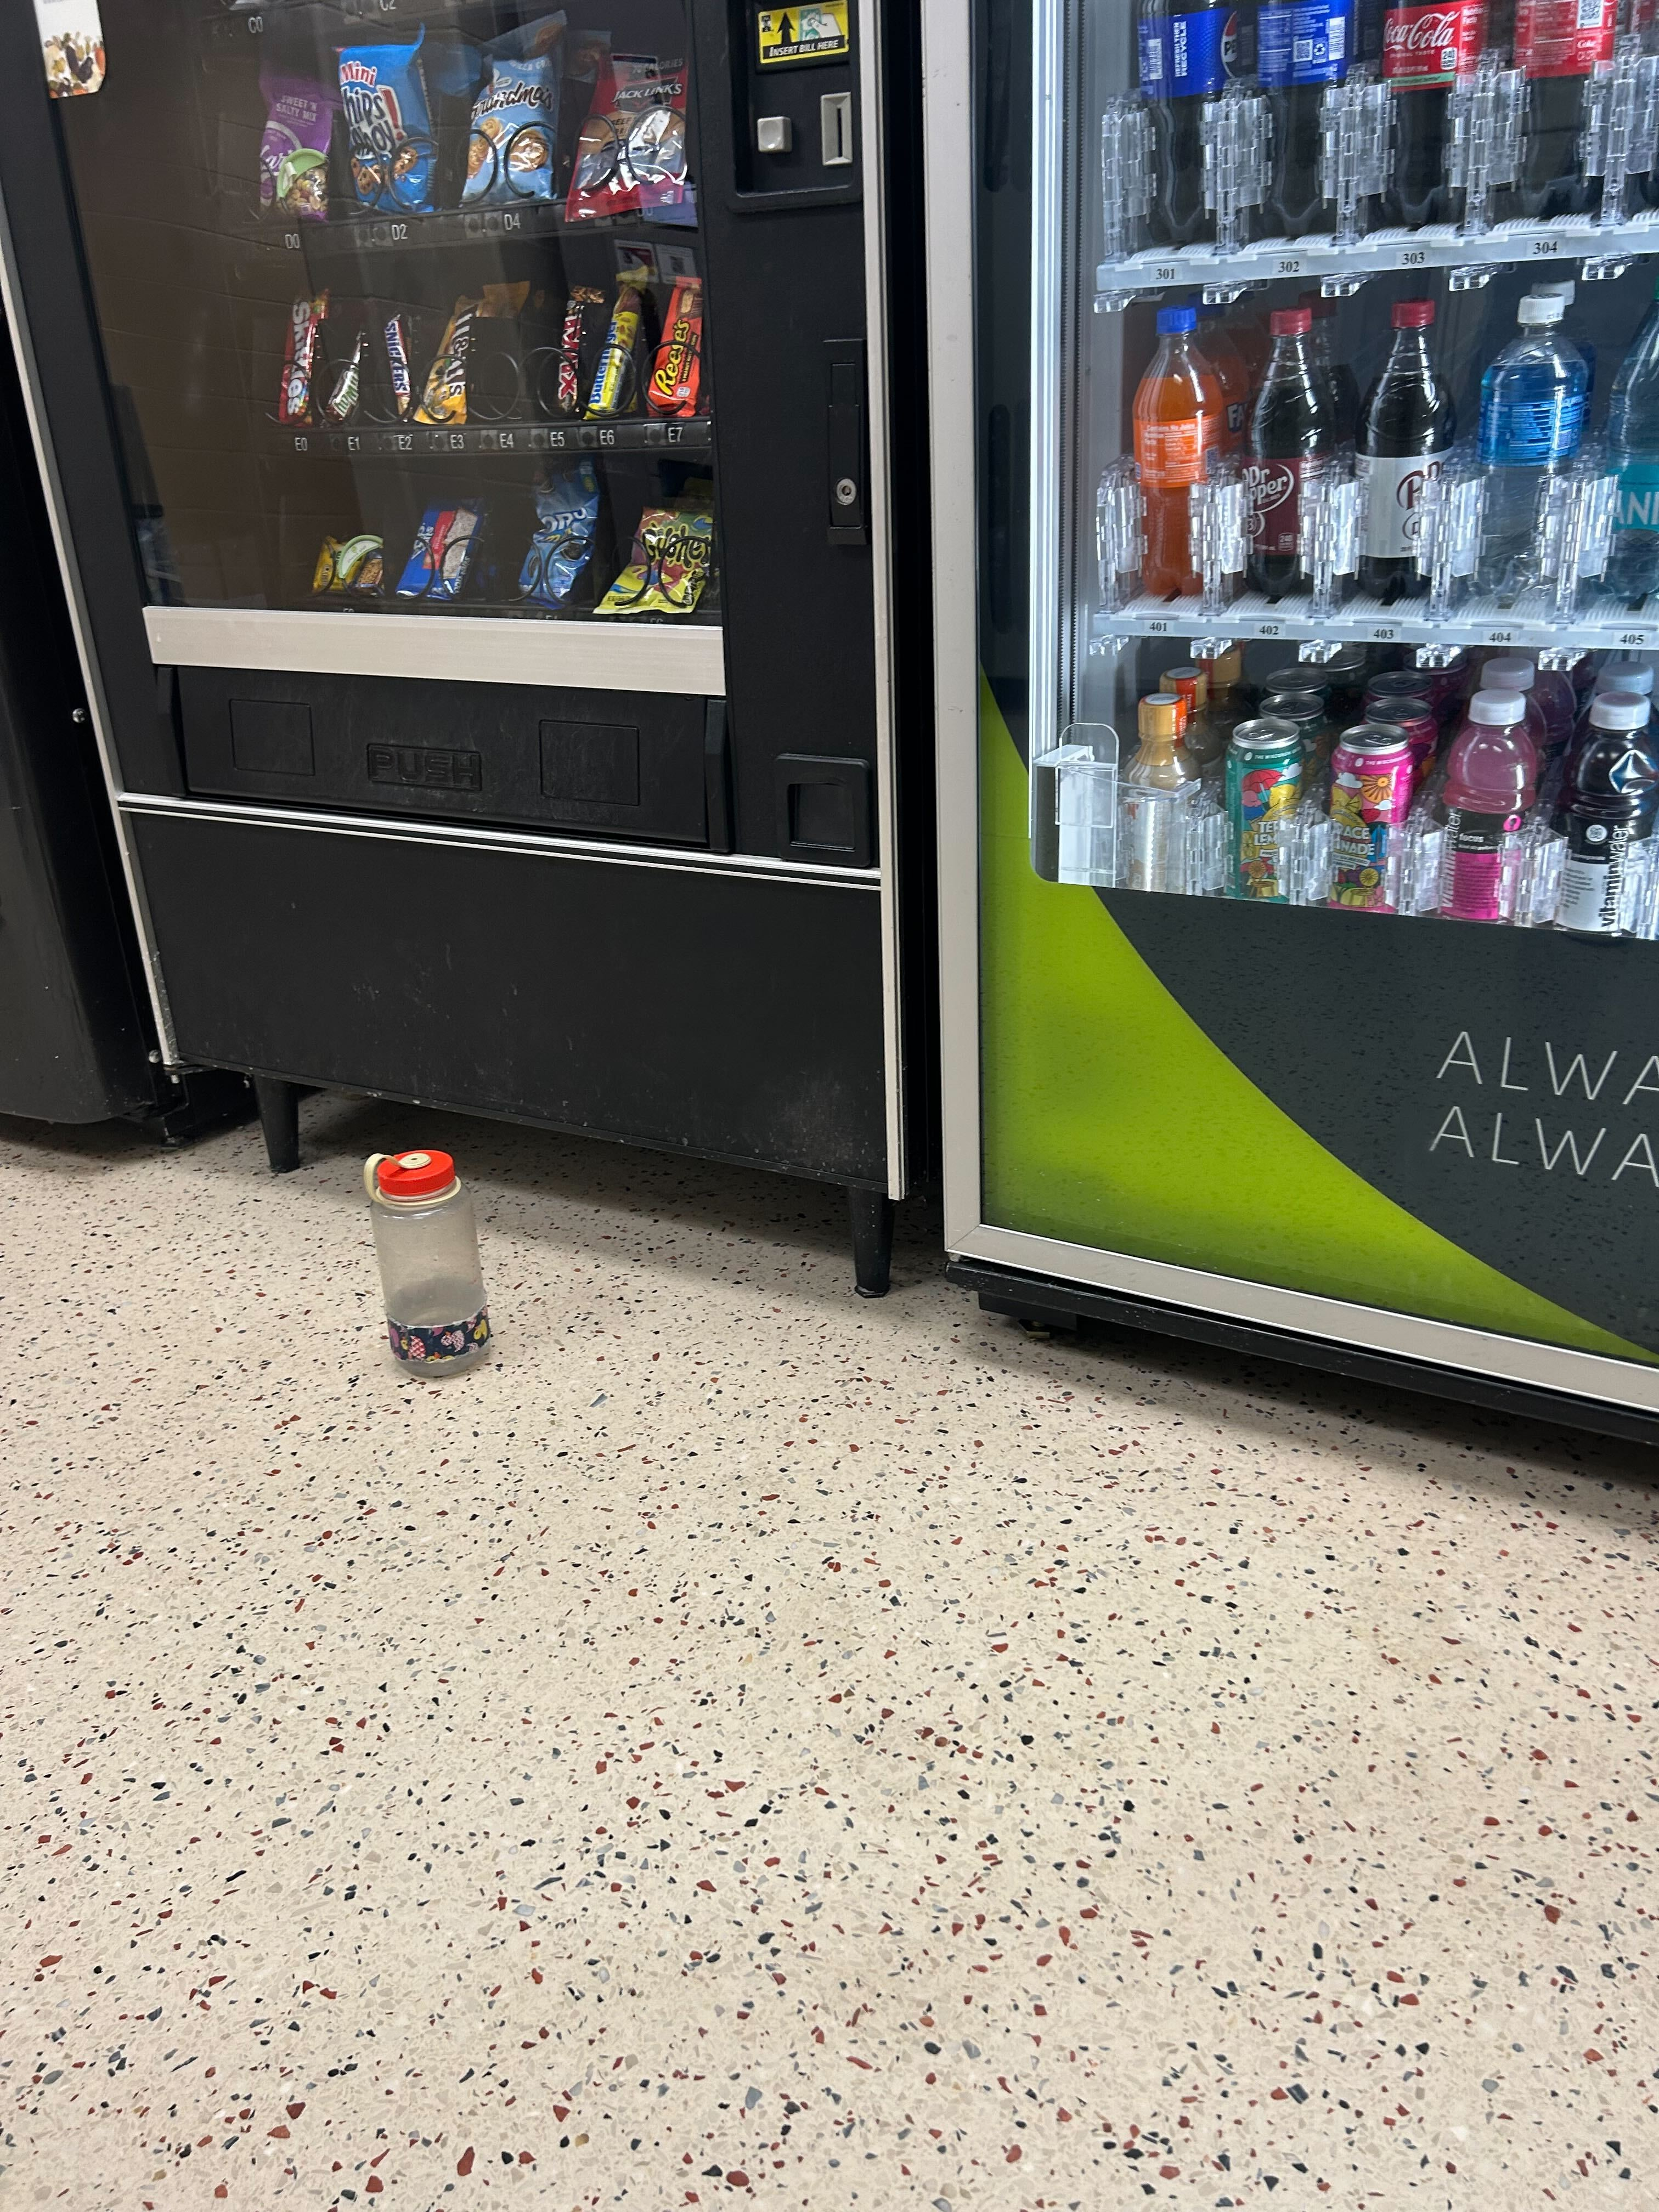bottle: (357, 1136, 493, 1385)
